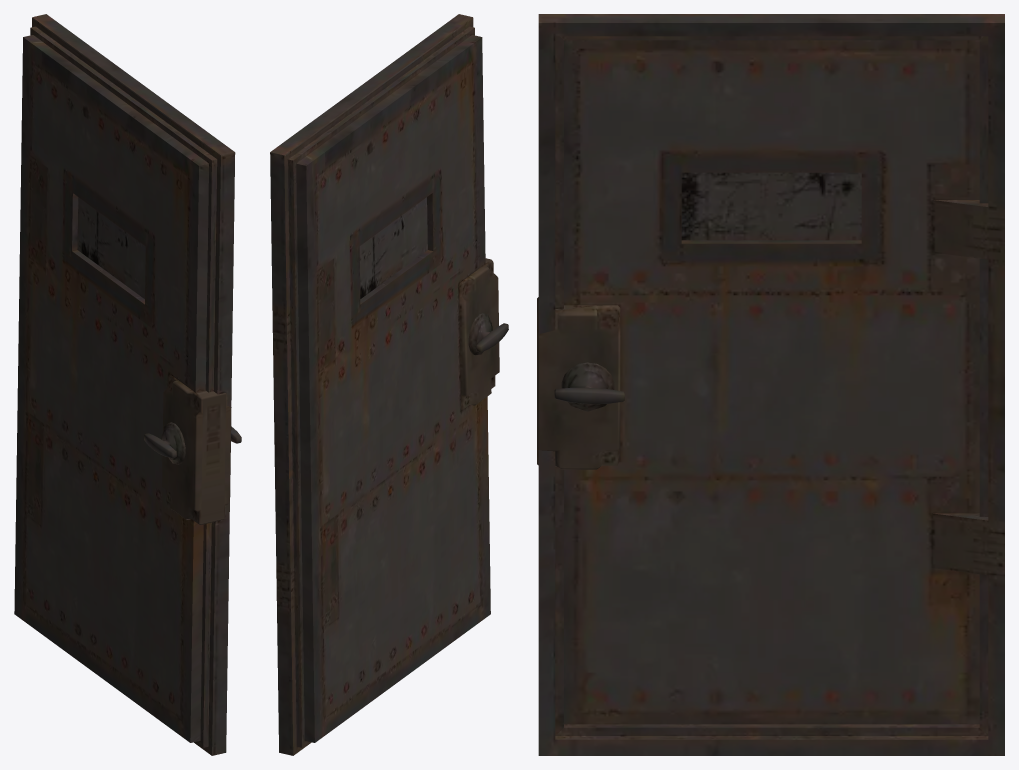
File: door.hinged.toptier.glb
The picture shows the model from 3 angles, left to right: view 1: azimuth 30°, elevation 25°; view 2: azimuth 150°, elevation 25°; view 3: azimuth 270°, elevation 25°; orthographic projection. The views are drawn at different scales.
Parts seen in each view (by area): view 1: door, wall.doorway.door.hatch, wall.doorway.doorhandle; view 2: door, wall.doorway.door.hatch, wall.doorway.doorhandle; view 3: door, wall.doorway.door.hatch, wall.doorway.doorhandle.
Boxes of the visible parts, <box> form: door: <box>14,14,235,755</box>; wall.doorway.door.hatch: <box>77,197,145,298</box>; wall.doorway.doorhandle: <box>144,426,241,458</box>; door: <box>270,14,499,755</box>; wall.doorway.door.hatch: <box>359,197,427,298</box>; wall.doorway.doorhandle: <box>476,323,508,352</box>; door: <box>537,14,1004,755</box>; wall.doorway.door.hatch: <box>681,172,861,240</box>; wall.doorway.doorhandle: <box>554,387,624,404</box>.
Bounding box in the file's own units: 0.2768 × 2.11 × 1.21.
1 material, 1 textured.
